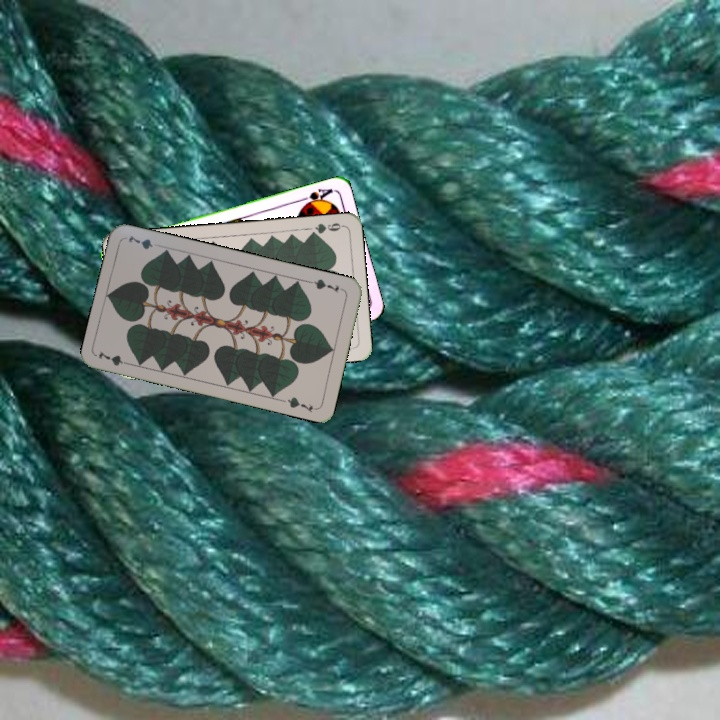G7: (95, 347, 135, 368), (306, 275, 346, 295)
G9: (306, 219, 346, 239)
SA: (296, 184, 335, 209)
